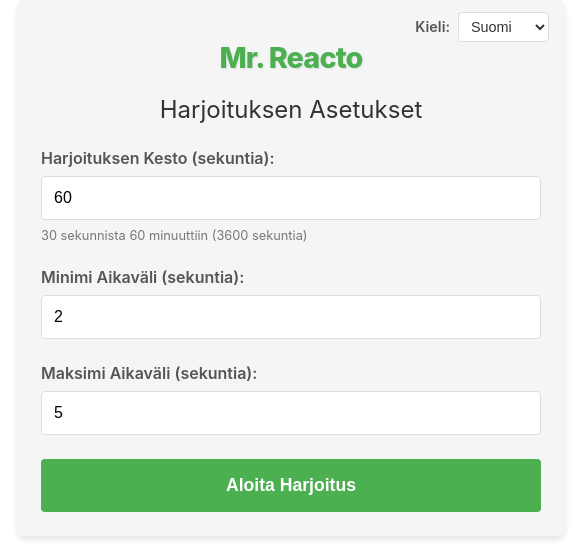
it: SessionConfig Component › language can be changed via selector
The width and height of the screenshot is (583, 558).
Check: the heading "Harjoituksen Asetukset" is shown, box [160,95,422,124]
Note: Change language to English
Step 1. Select "Englanti" in the dropdown labelled "Kieli:" → (504, 27), box [458,12,549,42]
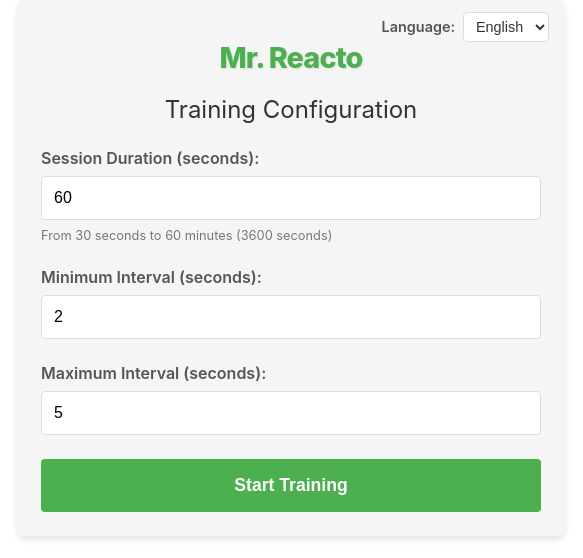
Check: the heading "Training Configuration" is shown, box [165,95,417,124]
